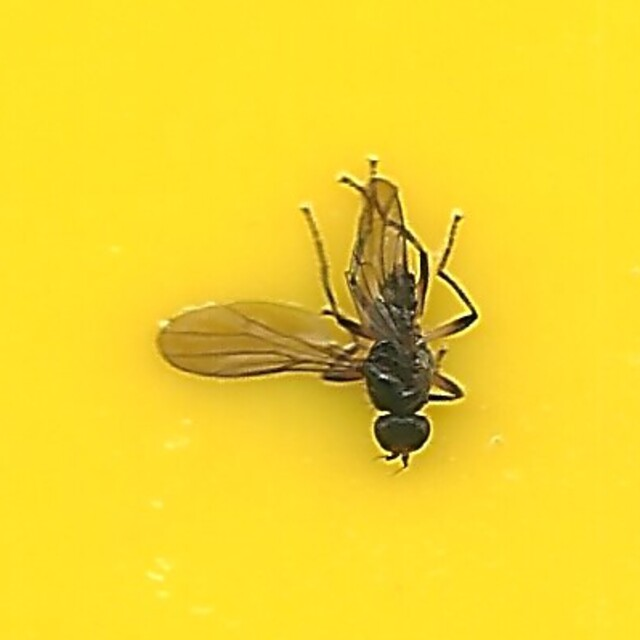Brachycera: (160, 156, 480, 484)
